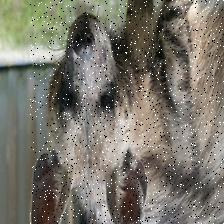hyena: (30, 0, 224, 224)
